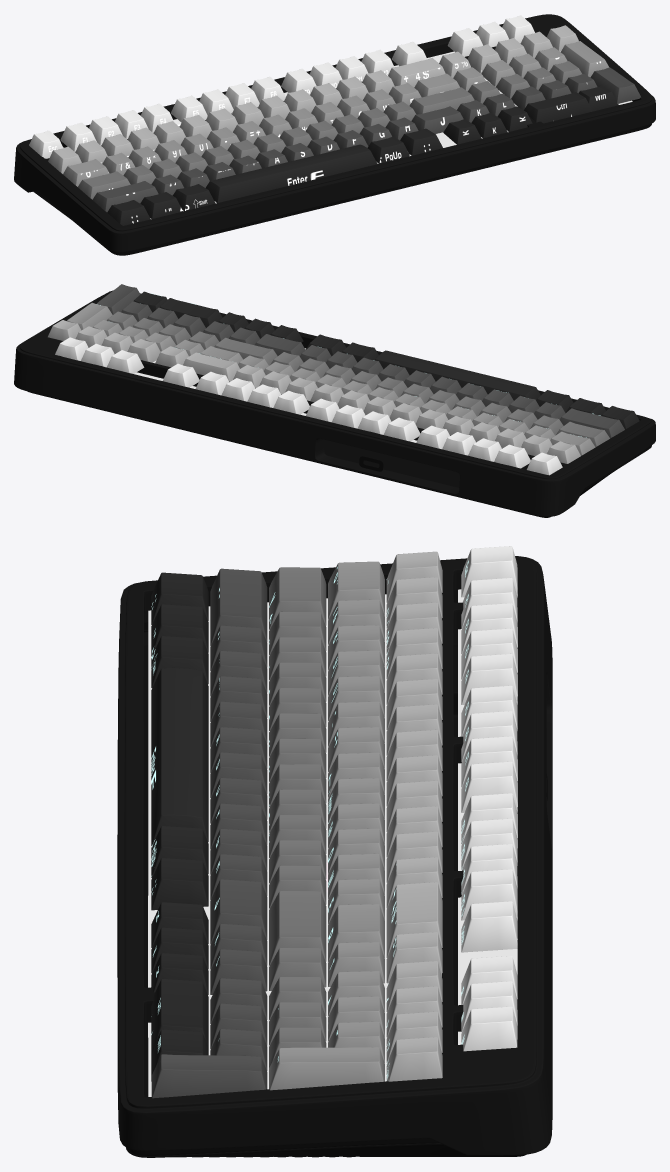
The model's file is keyboard-100.glb.
3 renders of one model, top to bottom at view 1: azimuth 30°, elevation 25°; view 2: azimuth 150°, elevation 25°; view 3: azimuth 270°, elevation 25°, orthographic. The views are drawn at different scales.
Visible parts, largest first — view 1: Layer_Keycaps, Layer_Case, Layer_Plate; view 2: Layer_Keycaps, Layer_Case; view 3: Layer_Keycaps, Layer_Case, Layer_Plate.
Boxes of the visible parts, bbox=[...] form: Layer_Keycaps: bbox=[29, 15, 640, 225]; Layer_Case: bbox=[14, 14, 655, 255]; Layer_Plate: bbox=[63, 51, 632, 219]; Layer_Keycaps: bbox=[48, 284, 639, 475]; Layer_Case: bbox=[14, 290, 655, 517]; Layer_Keycaps: bbox=[151, 546, 517, 1098]; Layer_Case: bbox=[117, 556, 552, 1157]; Layer_Plate: bbox=[148, 589, 517, 1096].
Bounding box in the file's own units: 0.4014 × 0.0422 × 0.1382.
Materials: 15 (1 with a texture image).
